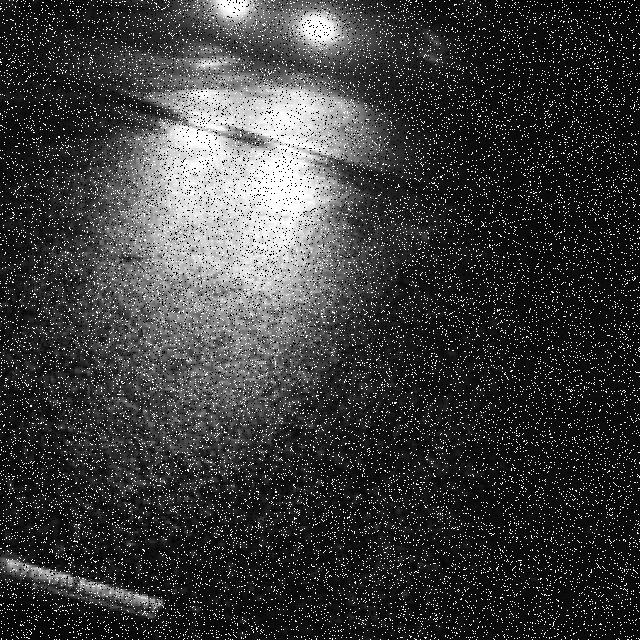ice-road: (0, 13, 640, 640)
